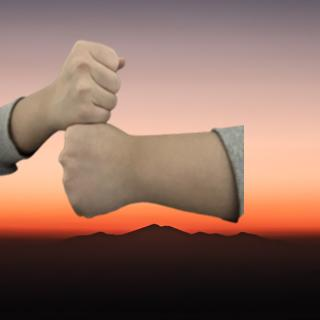CAREFUL: (18, 39, 227, 221)
